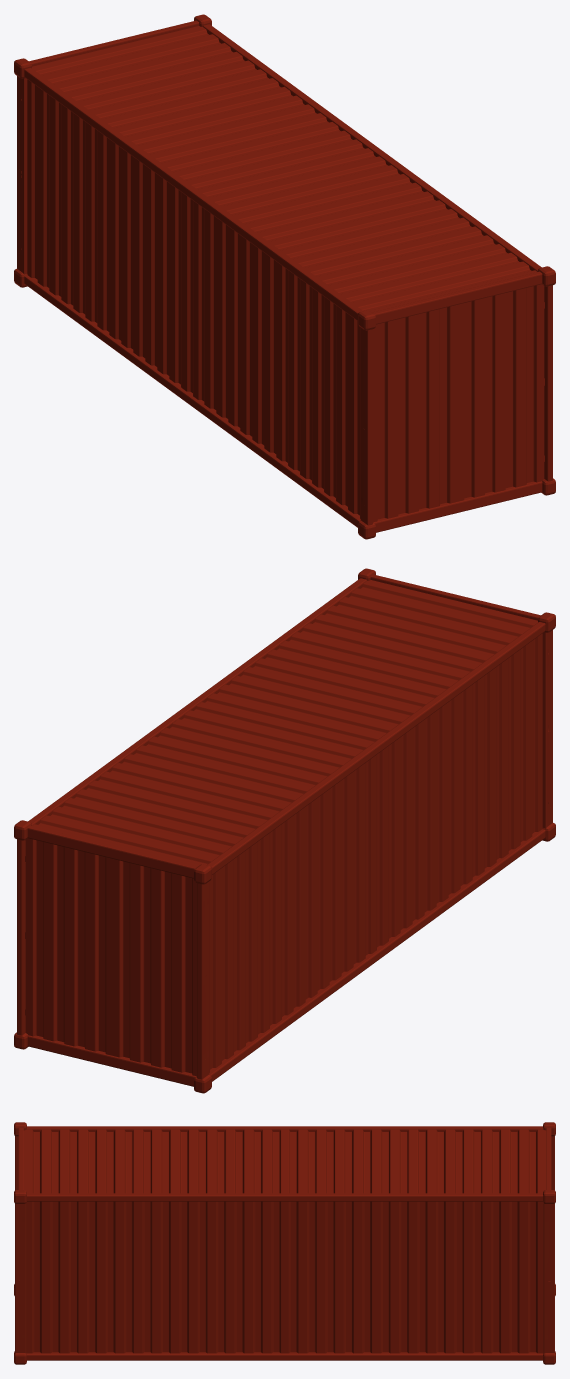
File: cargoRed.glb
3 views of the same model, one above another, from view 1: azimuth 30°, elevation 25°; view 2: azimuth 150°, elevation 25°; view 3: azimuth 270°, elevation 25° (orthographic). The views are drawn at different scales.
Visible parts, largest first — view 1: 030.002; view 2: 030.002; view 3: 030.002.
Part boxes in pixels (box(x1,y1,x2,y2)): 030.002: box(14, 14, 555, 539); 030.002: box(14, 568, 555, 1093); 030.002: box(14, 1122, 555, 1364).
Bounding box in the file's own units: 2.26 × 2.51 × 7.18.
Materials: 1 (1 with a texture image).
